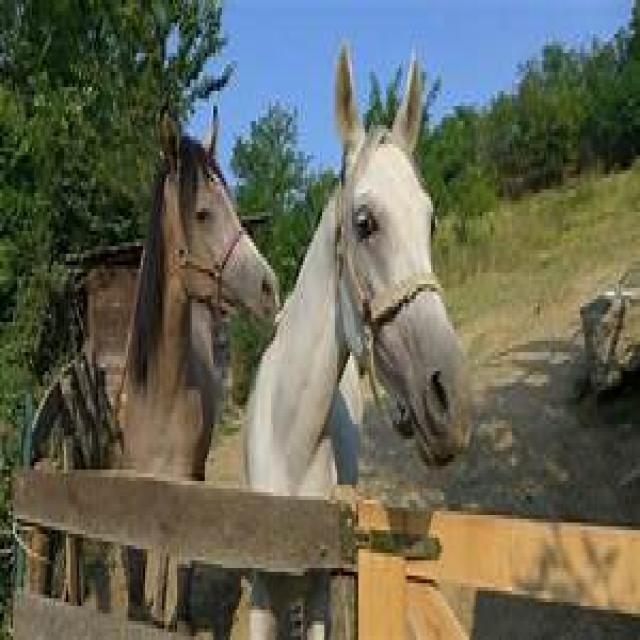animal: (248, 51, 478, 640), (114, 105, 282, 616)
